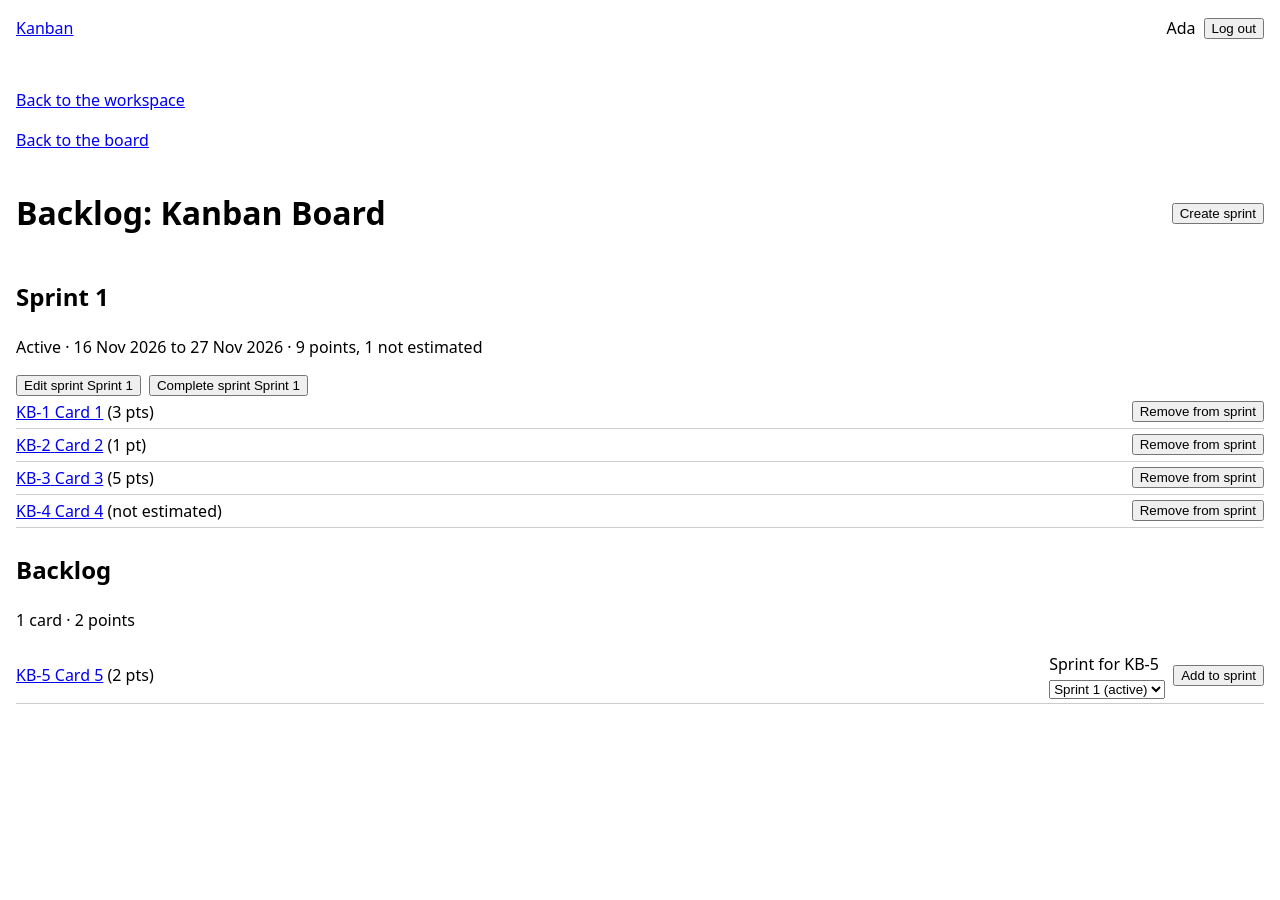
Test: complete a sprint › can be cancelled with Escape and sends nothing
This screenshot has width=1280, height=900.
Click the button "Complete sprint Sprint 1" at {"x": 228, "y": 385}, box [149, 375, 308, 396]
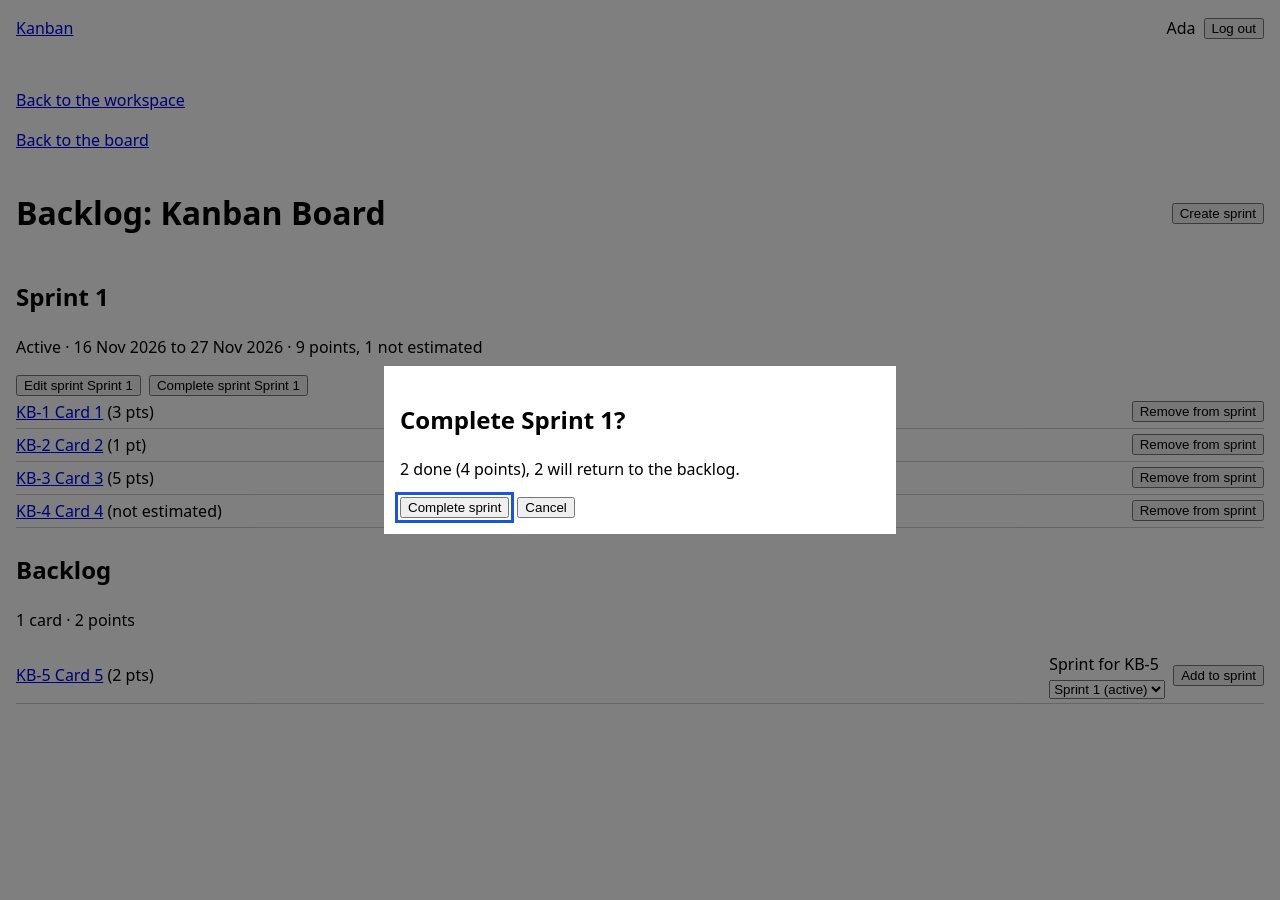
Press Escape
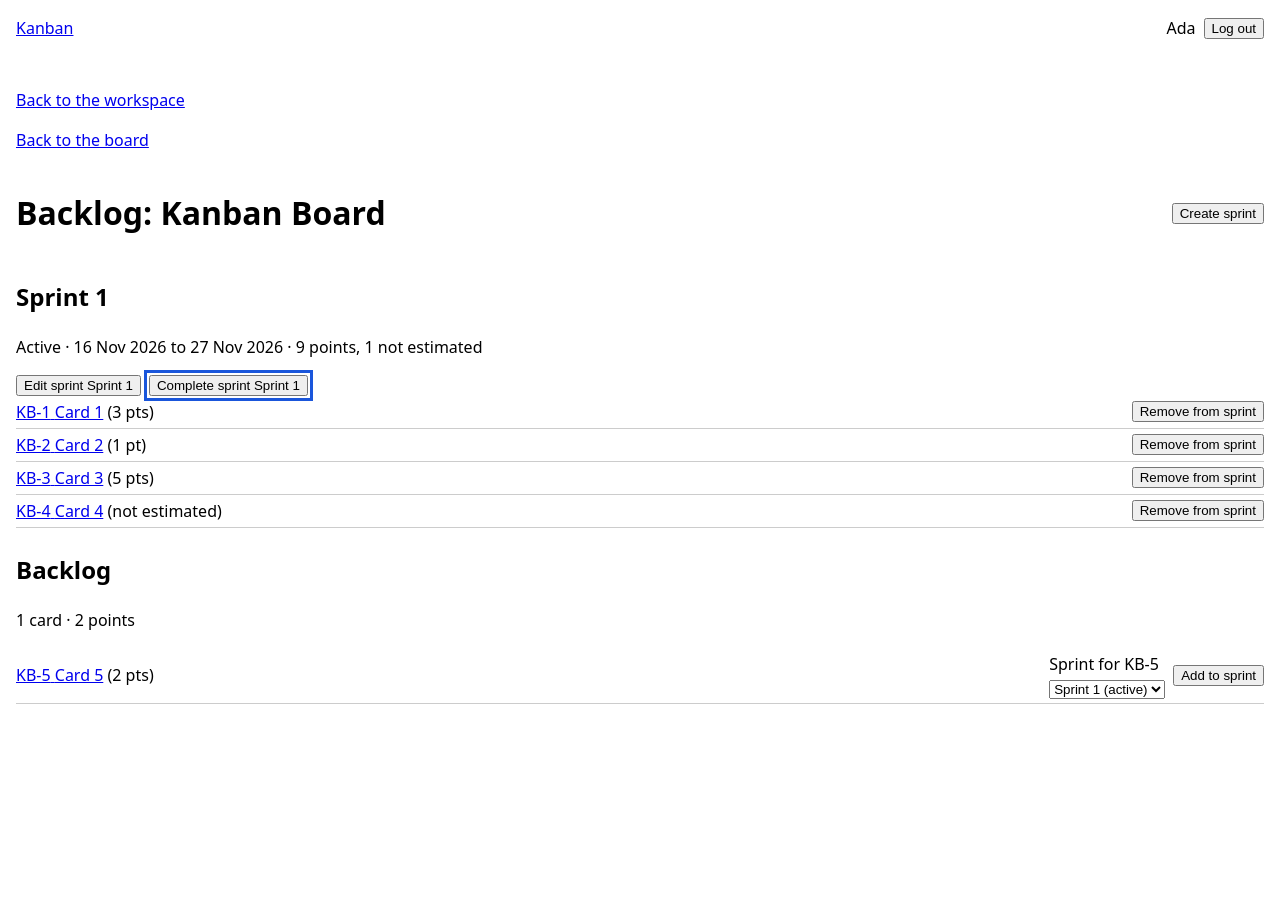
Now the dialog is gone
